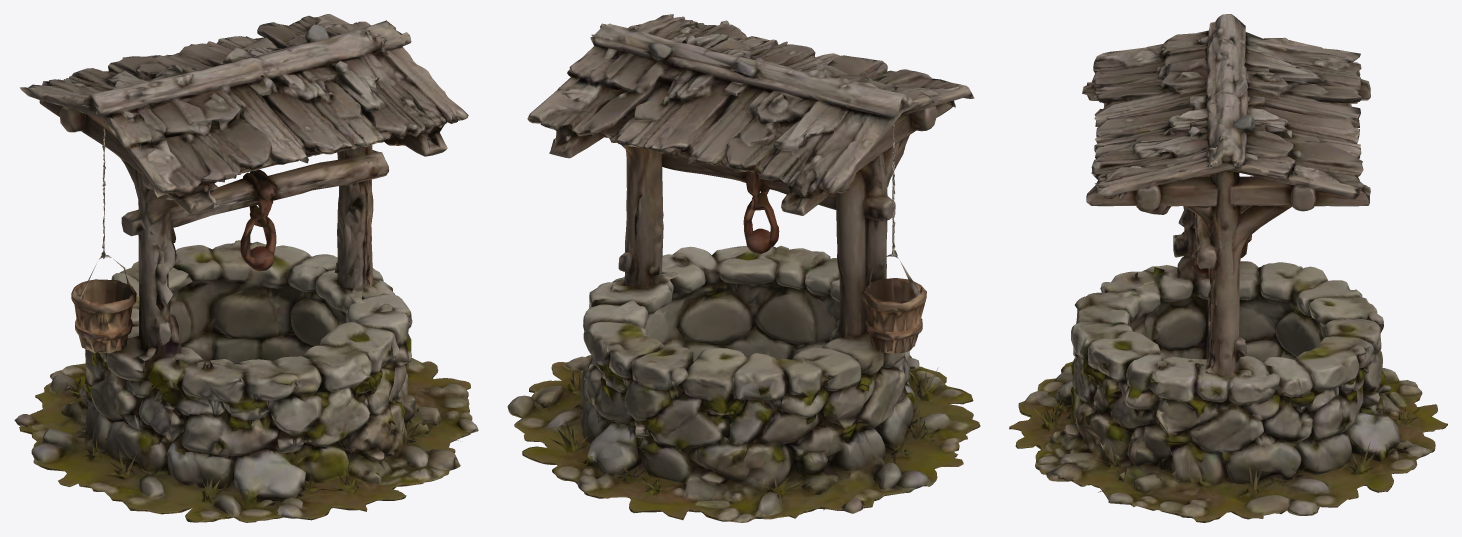
The model's file is well.glb.
The picture shows the model from 3 angles, left to right: view 1: azimuth 30°, elevation 25°; view 2: azimuth 150°, elevation 25°; view 3: azimuth 270°, elevation 25°; orthographic projection. The views are drawn at different scales.
Visible parts, largest first — view 1: tripo_node_a450465d_tripo_mat_a450465d_0; view 2: tripo_node_a450465d_tripo_mat_a450465d_0; view 3: tripo_node_a450465d_tripo_mat_a450465d_0.
Boxes of the visible parts, x1,y1,x2,y2 form: tripo_node_a450465d_tripo_mat_a450465d_0: [14, 14, 478, 522]; tripo_node_a450465d_tripo_mat_a450465d_0: [507, 14, 980, 522]; tripo_node_a450465d_tripo_mat_a450465d_0: [1009, 14, 1447, 522].
Size of the model in its own units: 0.9747 by 0.8501 by 0.9685.
Materials: 1 (1 with a texture image).
